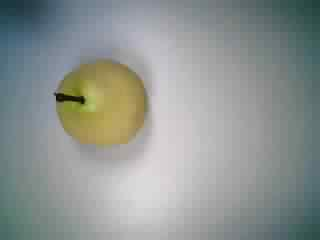pear: (47, 46, 153, 153)
